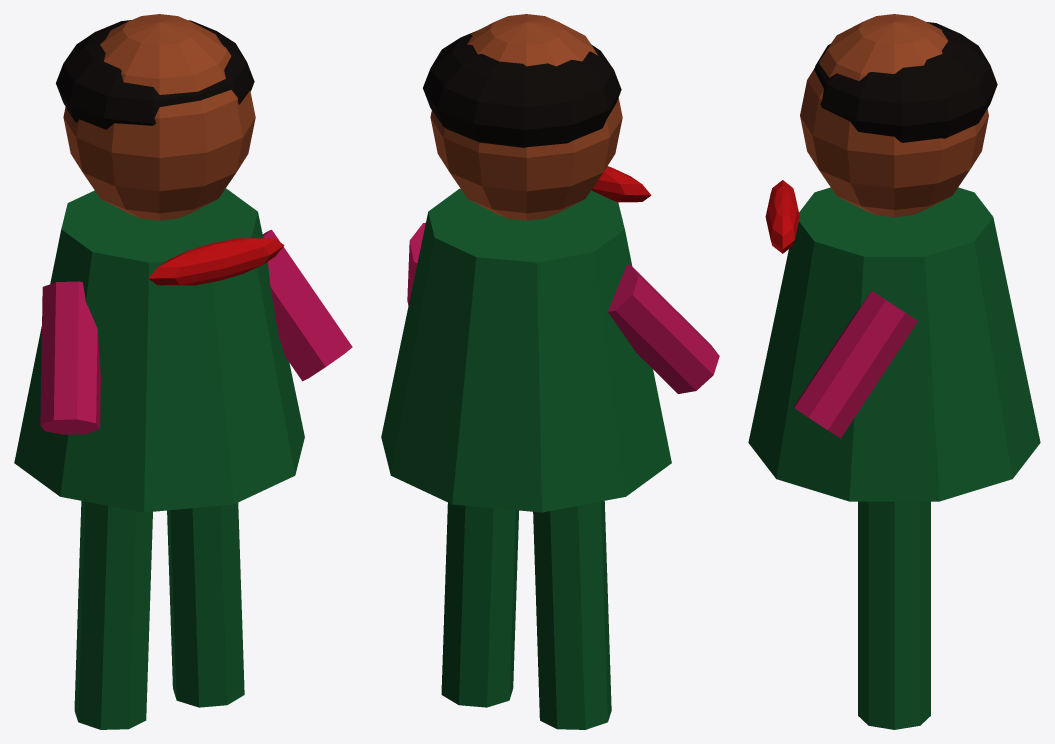
Rendered from persona_convivencia_2.obj.
3 renders of one model, left to right at view 1: azimuth 30°, elevation 25°; view 2: azimuth 150°, elevation 25°; view 3: azimuth 270°, elevation 25°, orthographic.
Visible parts, largest first — view 1: persona_convivencia_2; view 2: persona_convivencia_2; view 3: persona_convivencia_2.
Part boxes in pixels (<box>): persona_convivencia_2: <box>14,14,352,729</box>; persona_convivencia_2: <box>381,14,719,729</box>; persona_convivencia_2: <box>748,14,1040,729</box>.
Size of the model in its own units: 0.8092 by 1.72 by 0.68.
